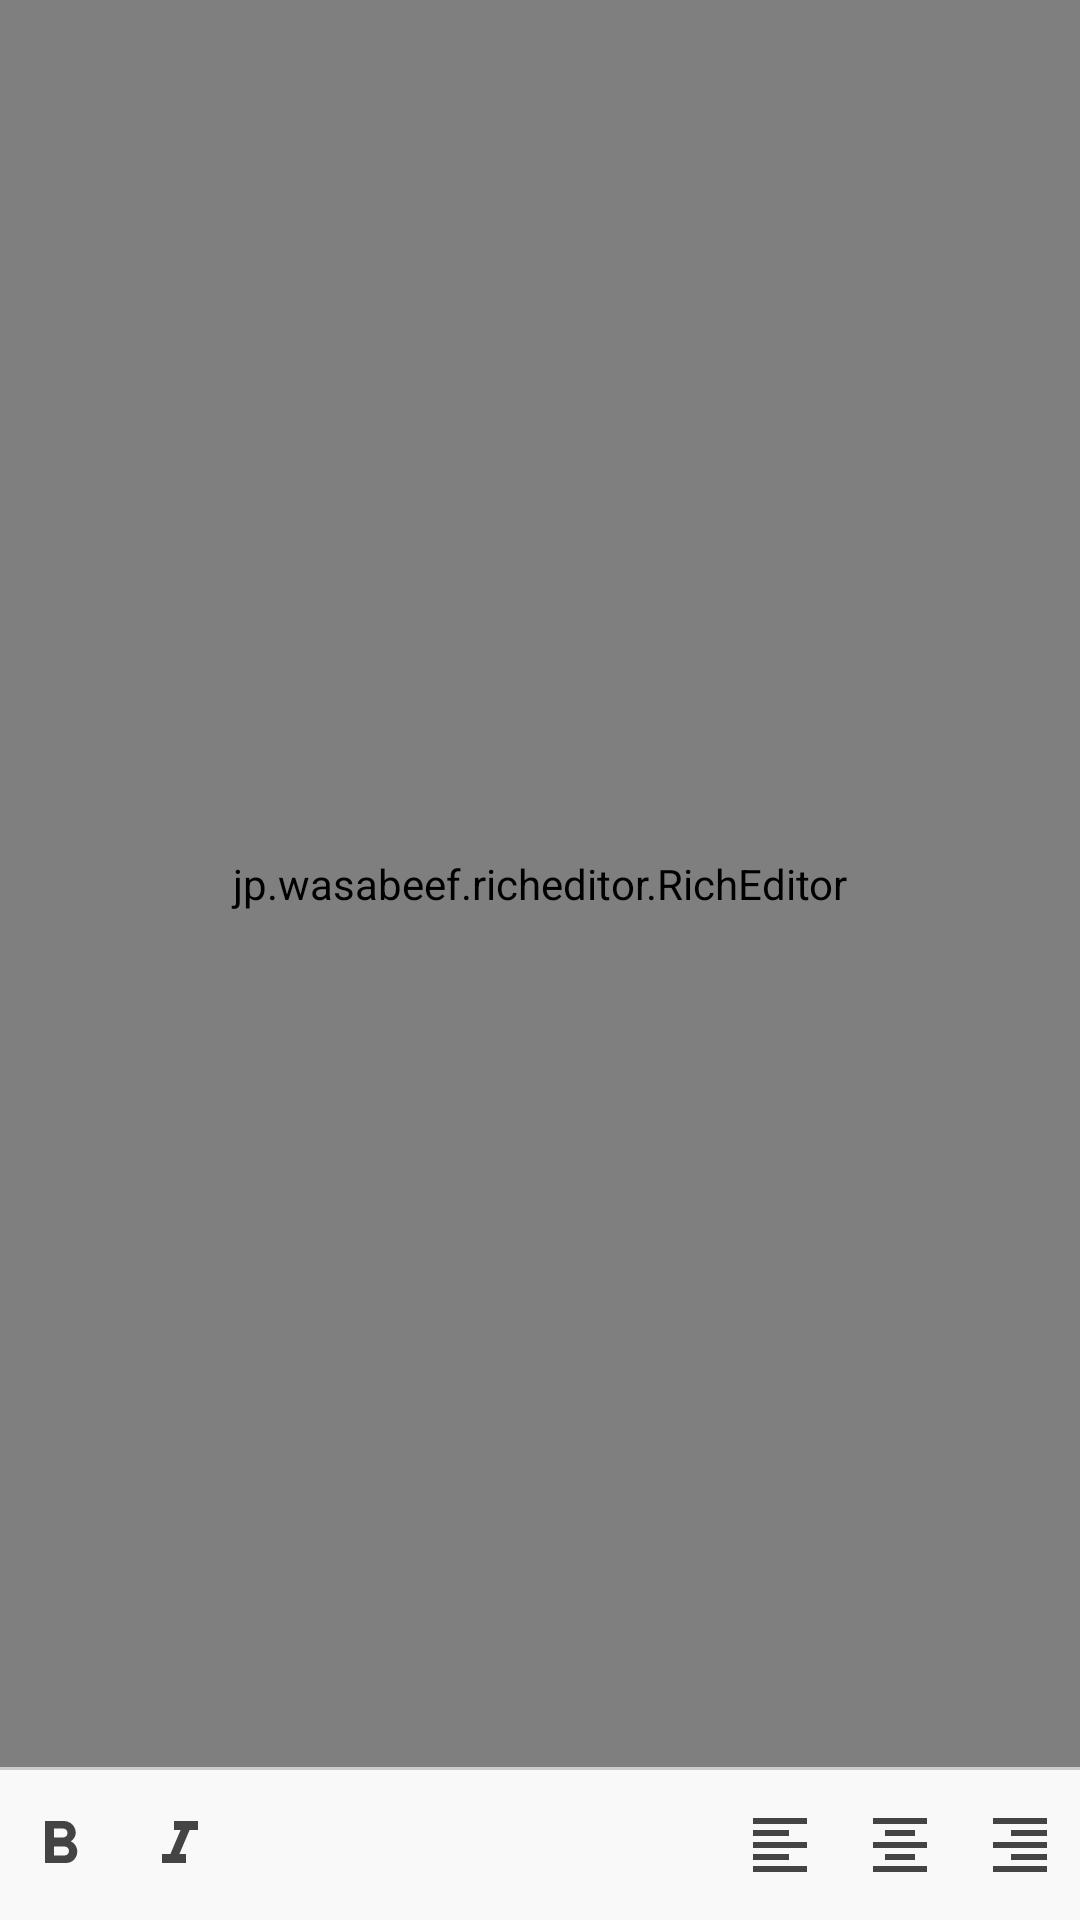

Icons on this 1080px x 1920px Android screen, each with the point to tap as [x,y]:
format: [61,1842]
format align center: [900,1845]
format align left: [780,1845]
format align right: [1020,1845]
format italic: [180,1842]
